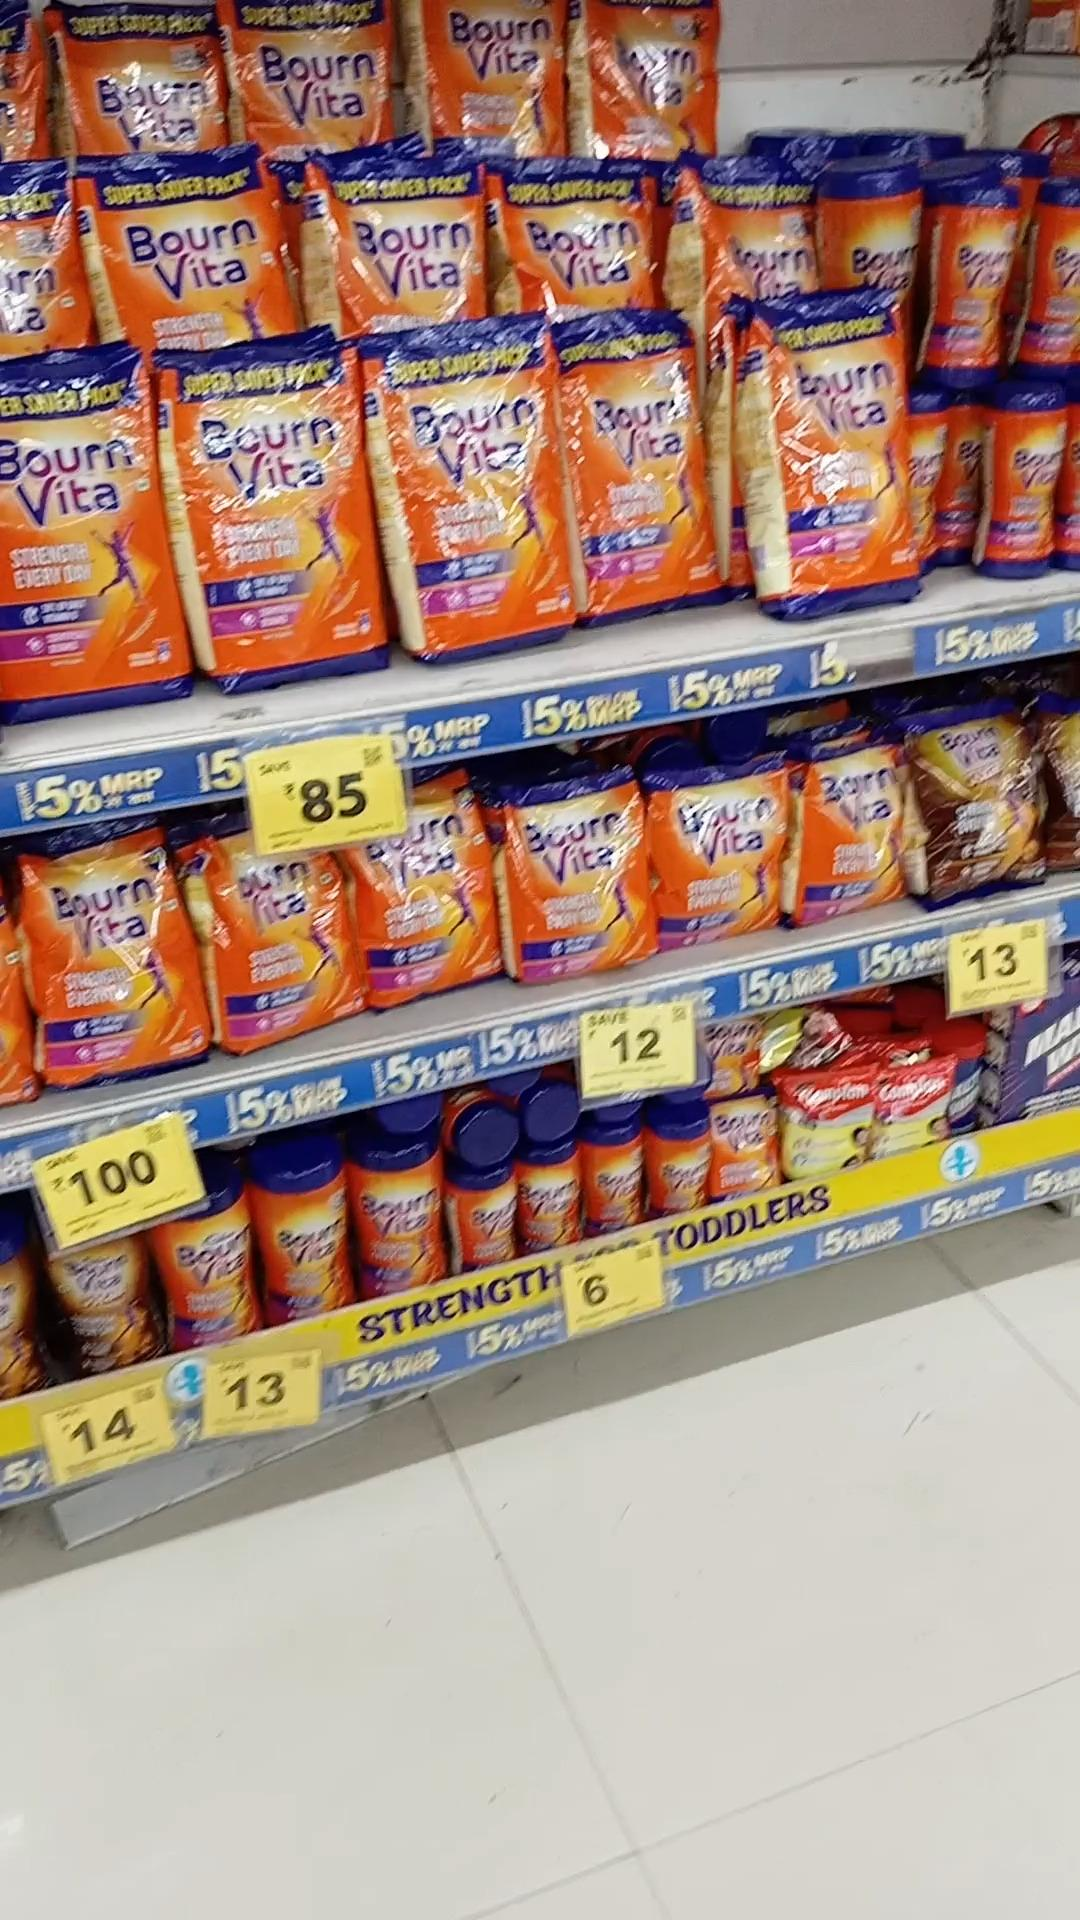BOURN_VITA_200_G_JAR: (456, 1171, 522, 1270), (521, 1143, 580, 1253), (587, 1129, 649, 1228), (658, 1120, 713, 1220)
BOURN_VITA_500_G_JAR: (930, 183, 1010, 381), (171, 1179, 257, 1352), (261, 1154, 349, 1320), (988, 388, 1064, 578), (357, 1135, 447, 1296)
BOURN_VITA_500_G_POUCH: (517, 783, 647, 972), (657, 773, 778, 949), (800, 748, 906, 922)
BOURN_VITA_750_G_POUCH: (40, 827, 196, 1083), (210, 816, 351, 1048), (359, 790, 492, 1001)
BOURN_VITA_CHAMPS_500_G_JAR: (57, 1242, 156, 1374)
BOURN_VITA_FIVE_STAR_MAGIC_500_G_JAR: (915, 715, 1039, 909)
